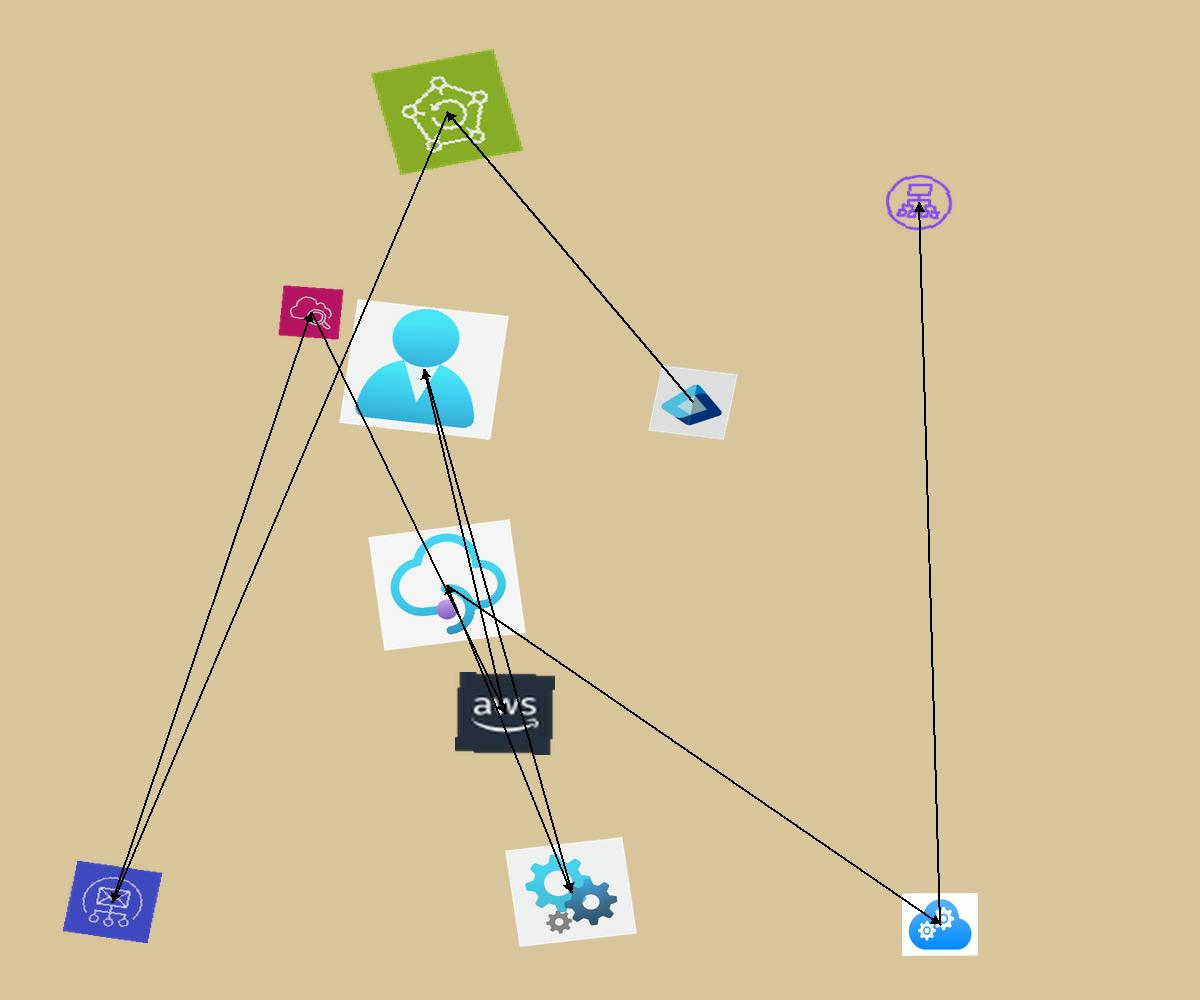AWS-Backup: (370, 48, 524, 176)
AWS-Cloud-logo: (455, 672, 555, 755)
AWS-CloudWatch: (278, 285, 344, 340)
AWS-Res_Elastic-Load-Balancing_Application-Load-Balancer: (880, 170, 958, 235)
AWS-Simple-Email-Service: (62, 860, 163, 944)
Azure_api: (505, 837, 637, 947)
Azure_api_gateway: (368, 519, 526, 651)
Azure_cloud_services: (902, 893, 978, 956)
Azure_microsoft_entra: (648, 365, 738, 440)
Azure_users: (339, 299, 509, 440)
